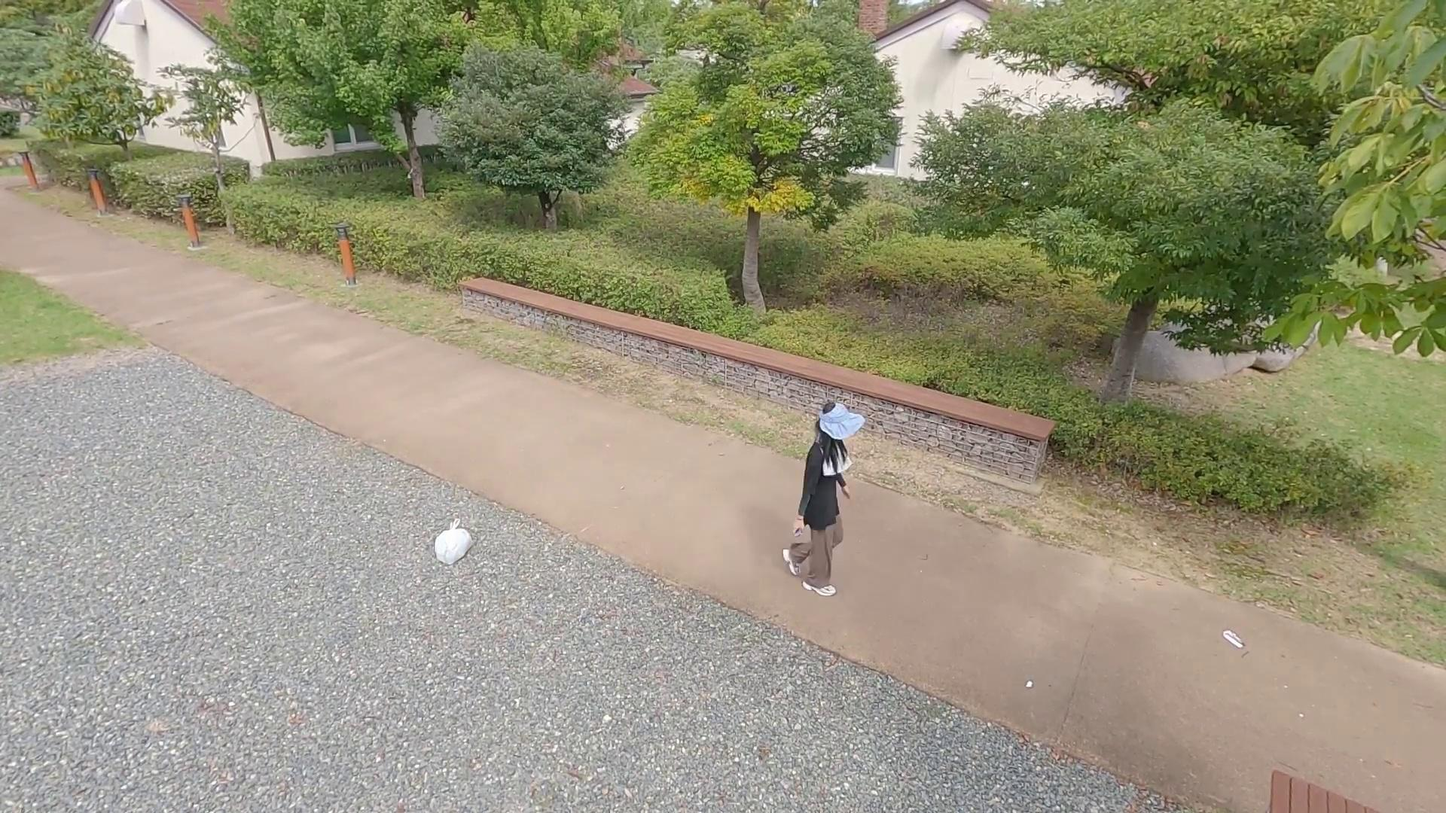person: (782, 396, 868, 597)
trash: (435, 518, 474, 565)
